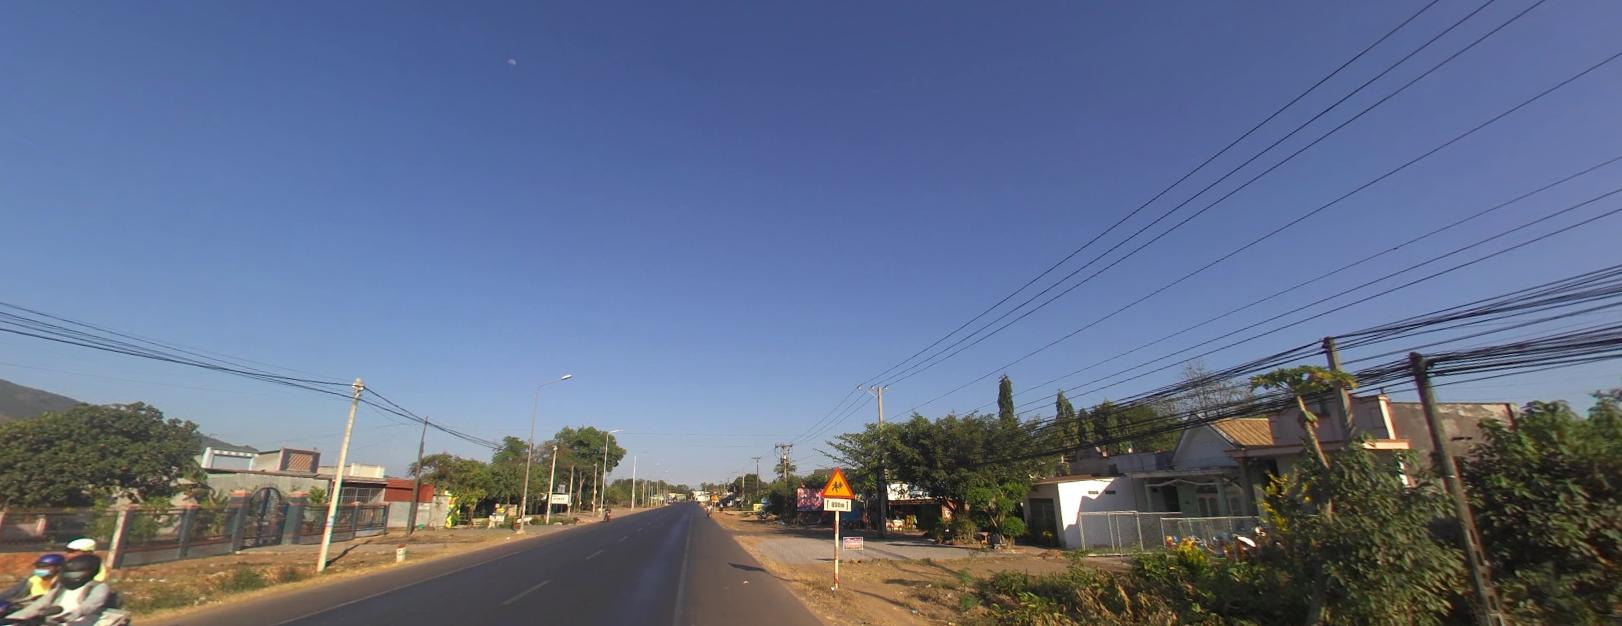Nguy hiem: (820, 465, 855, 497), (713, 493, 718, 498), (709, 493, 713, 498)
